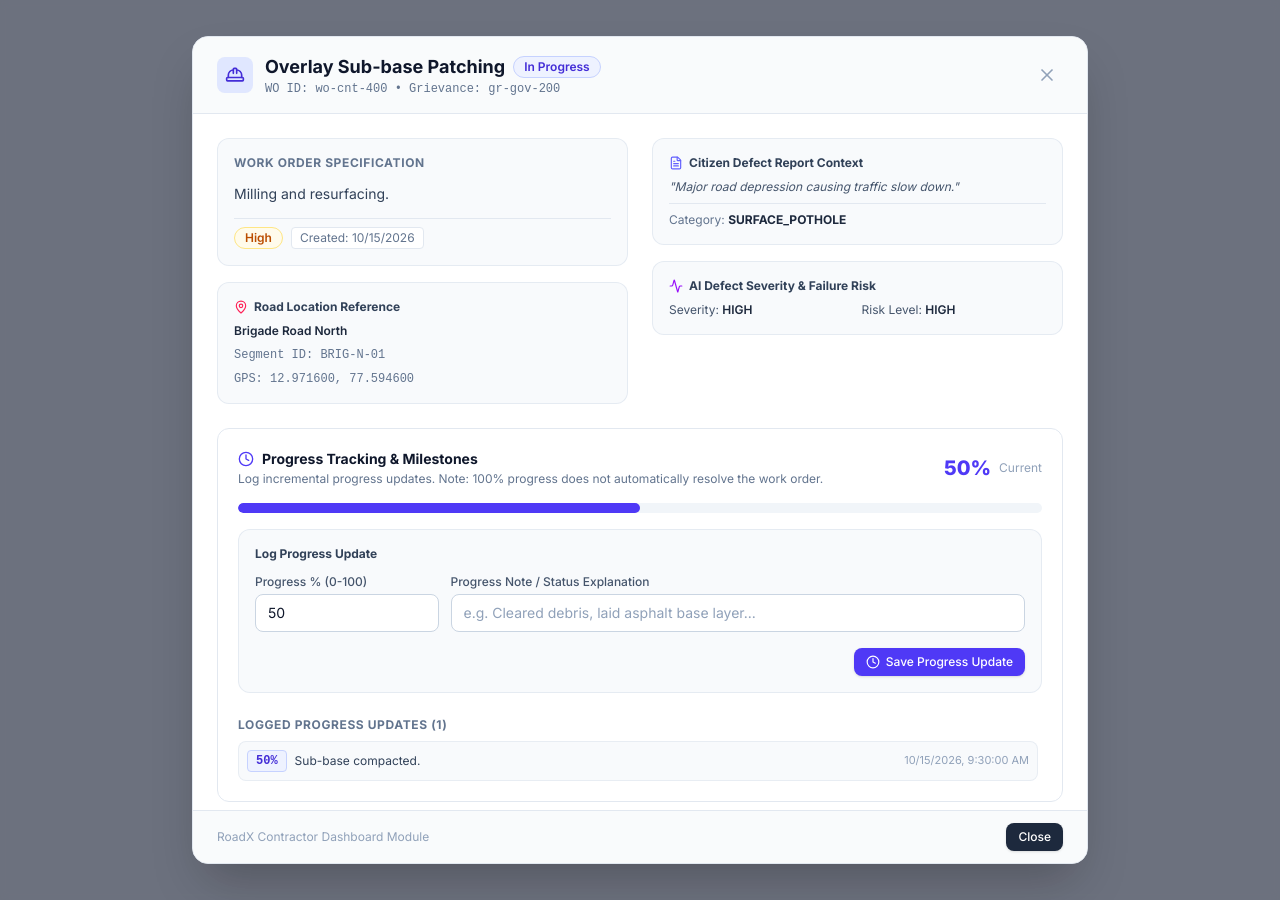
it: RoadX Phase 27 — End-to-End Browser Workflows & Integration Tests › Workflow 5: Contractor logs progress updates with monotonicity enforcement
Expected: the heading "Overlay Sub-base Patching" is shown, top-left (265, 53), bottom-right (505, 81)
Replace the text in the number field with test id "input-progress-pct" with "35" at (347, 613), box top-left (255, 594), bottom-right (438, 632)
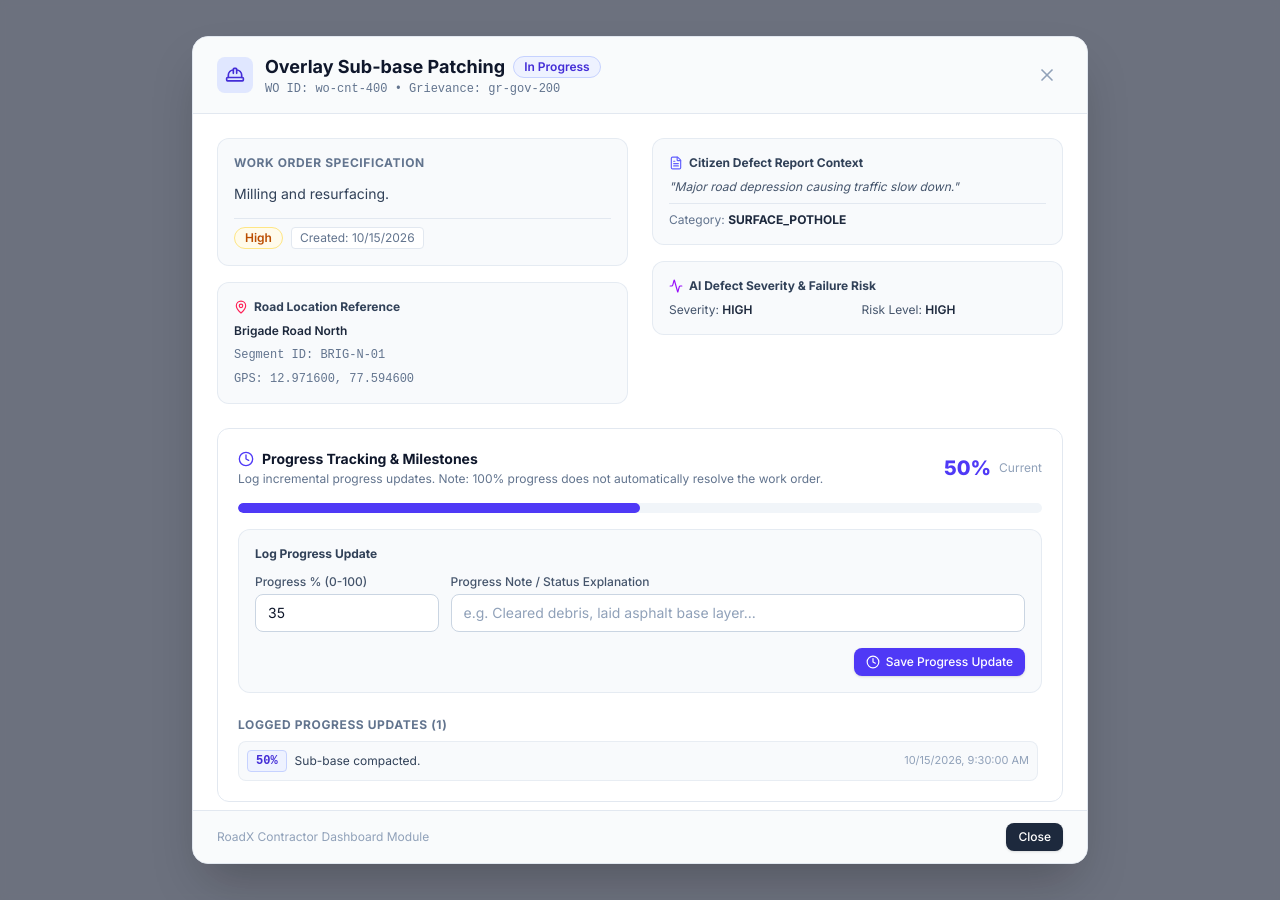
Type "Decreased progress" into the field with test id "input-progress-note" at (738, 613), box top-left (450, 594), bottom-right (1025, 632)
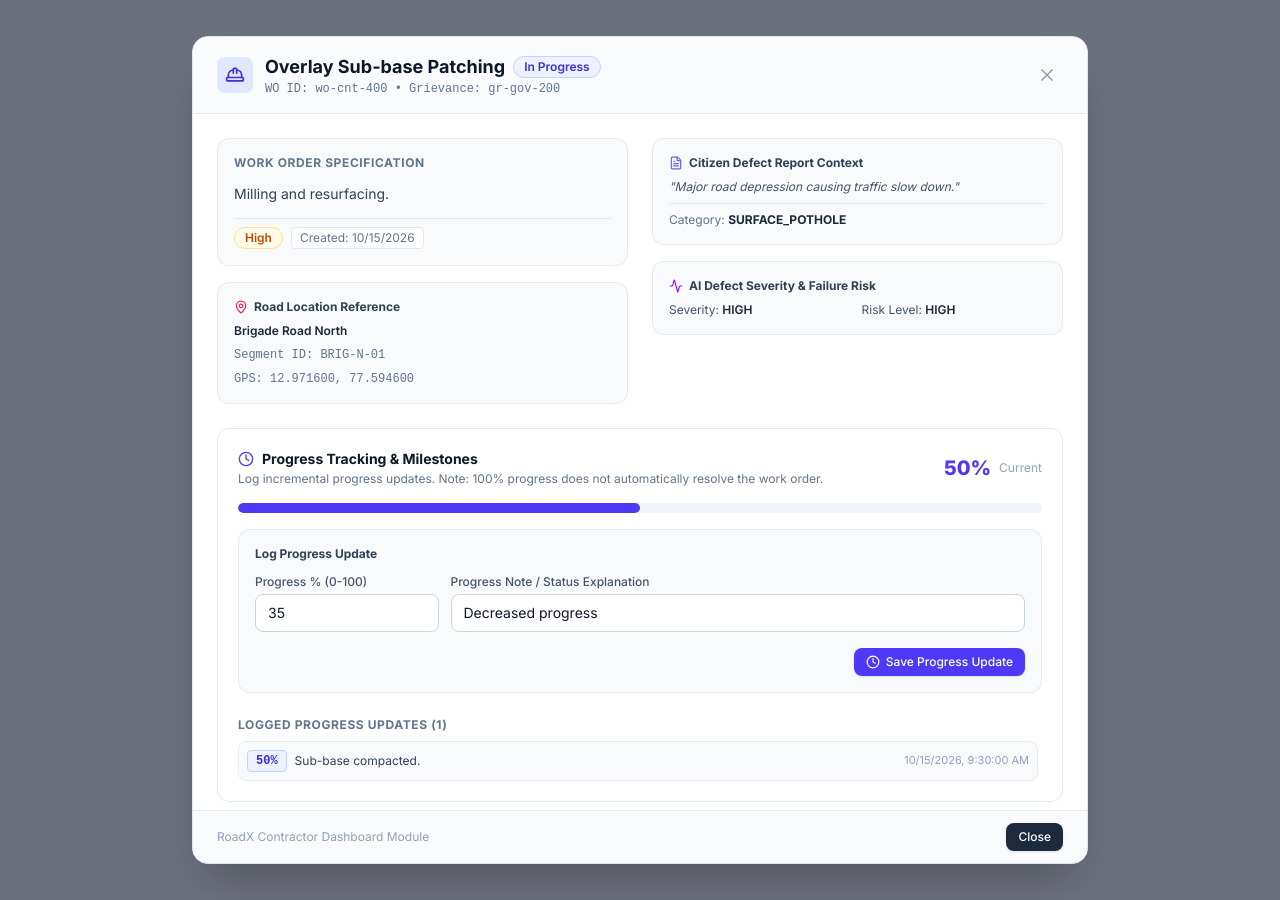
Click the button with test id "btn-submit-progress" at (939, 662), box top-left (854, 648), bottom-right (1025, 676)
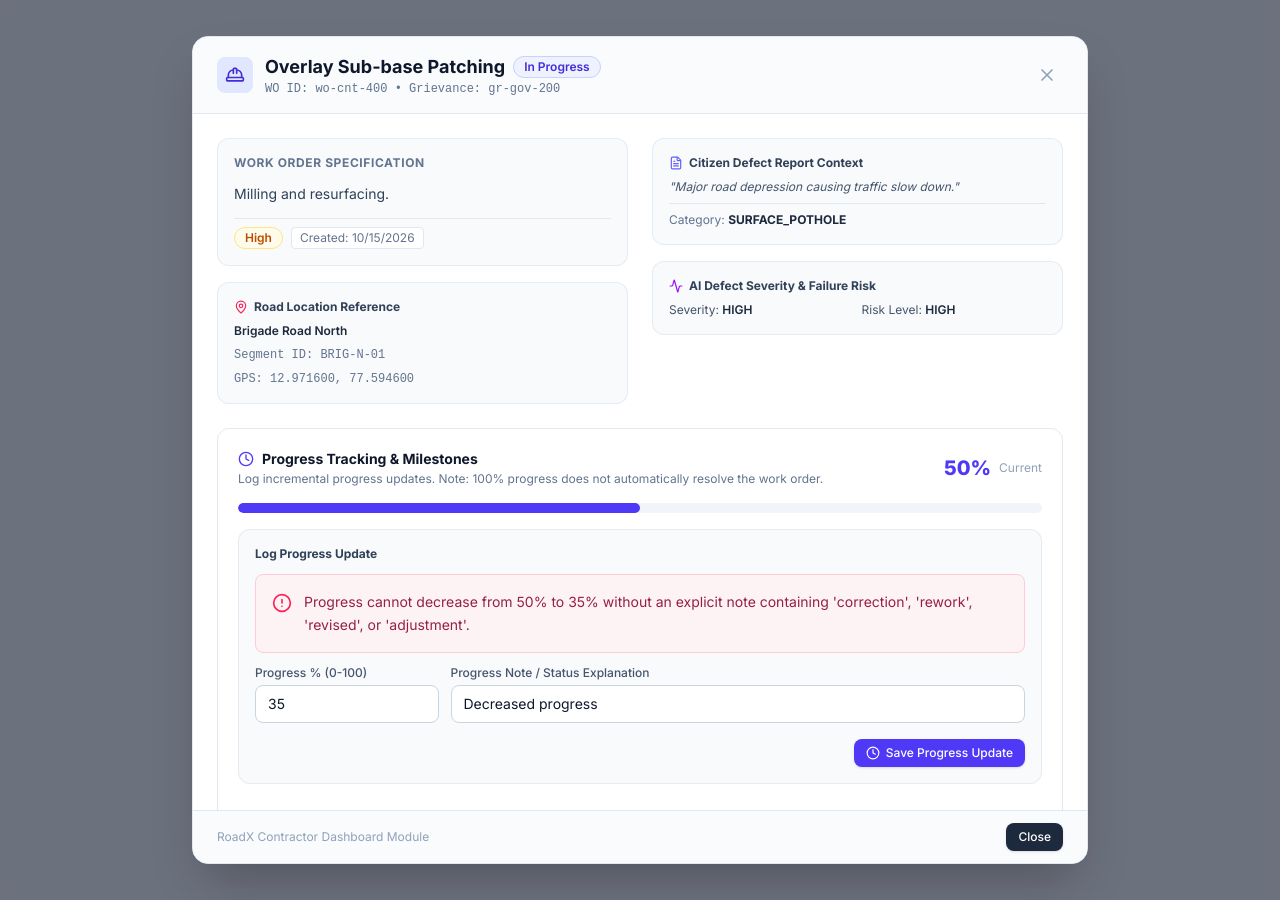
Expected: the text "Progress cannot decrease from 50% to 35% without an explicit note" is shown, top-left (304, 593), bottom-right (972, 633)
# 5b. Valid monotonicity exception: reduce with 'correction' keyword succeeds
Replace the text in the number field with test id "input-progress-pct" with "40" at (347, 704), box top-left (255, 685), bottom-right (438, 723)
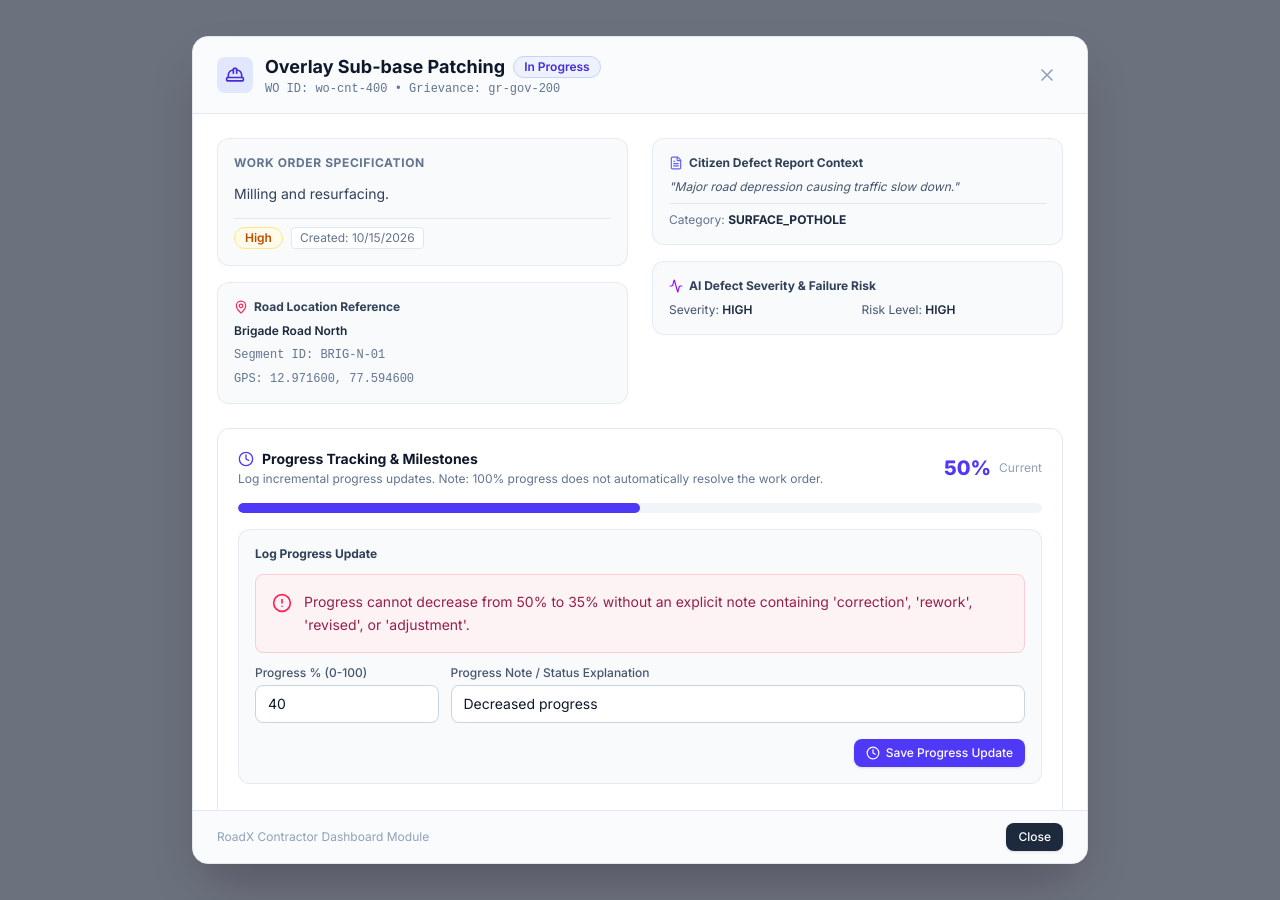
Replace the text in the field with test id "input-progress-note" with "Correction: sub-base layer depth was over-estimated." at (738, 704), box top-left (450, 685), bottom-right (1025, 723)
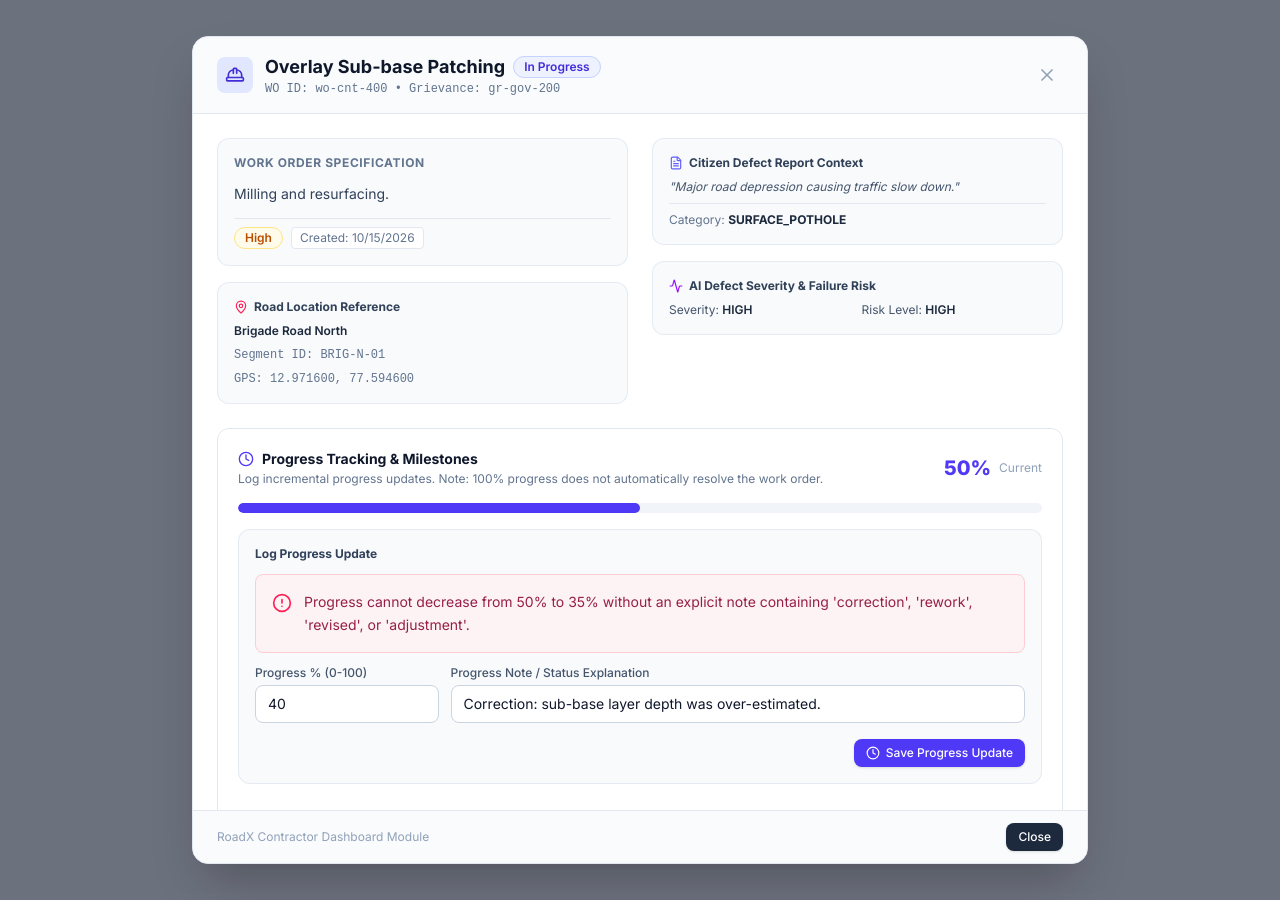
Click the button with test id "btn-submit-progress" at (939, 753), box top-left (854, 739), bottom-right (1025, 767)
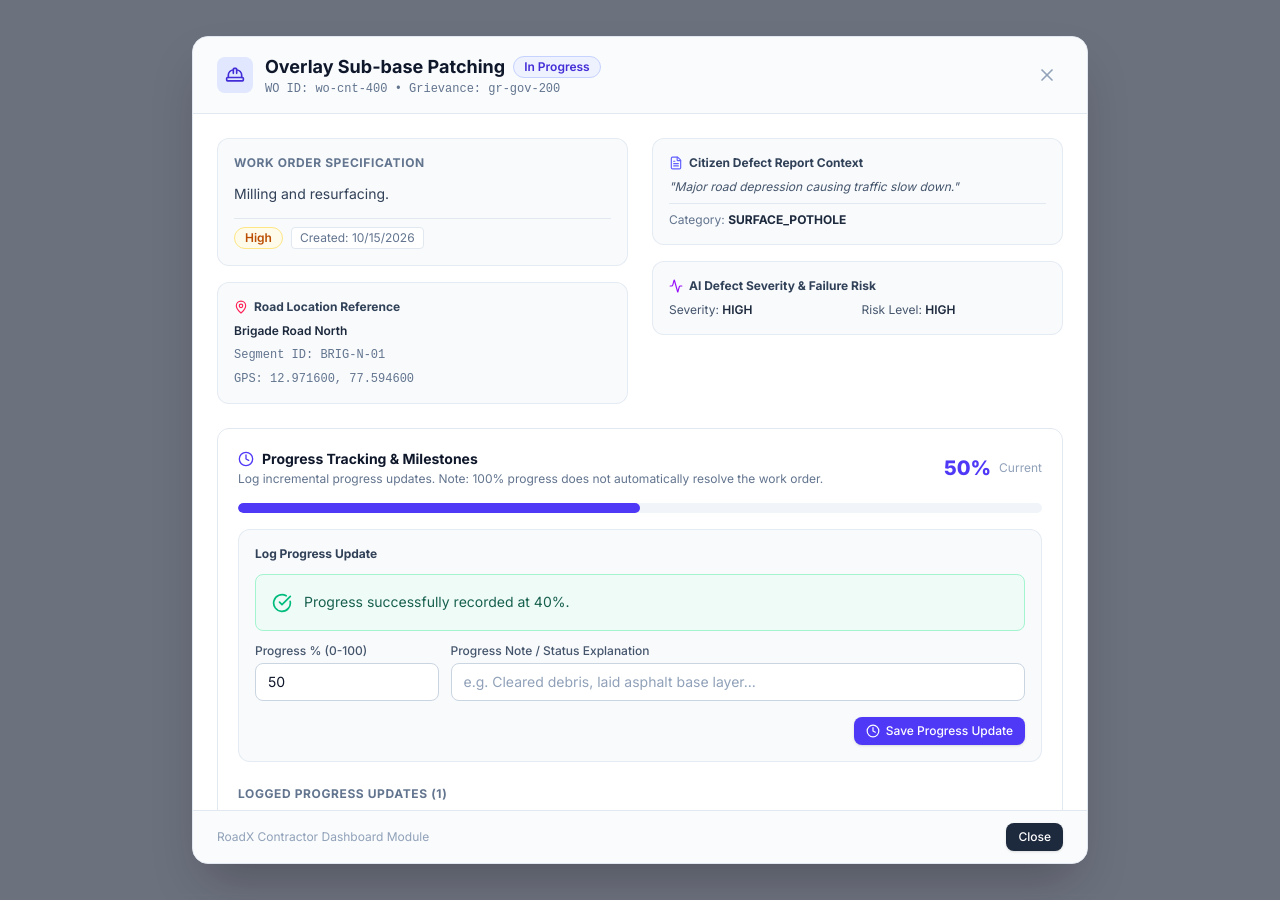
Expected: the text "Progress successfully recorded at 40%." is shown, top-left (304, 593), bottom-right (570, 610)
